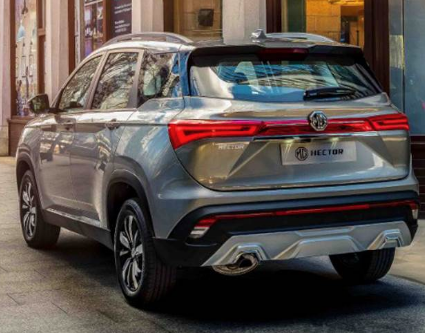car: (9, 28, 420, 312)
